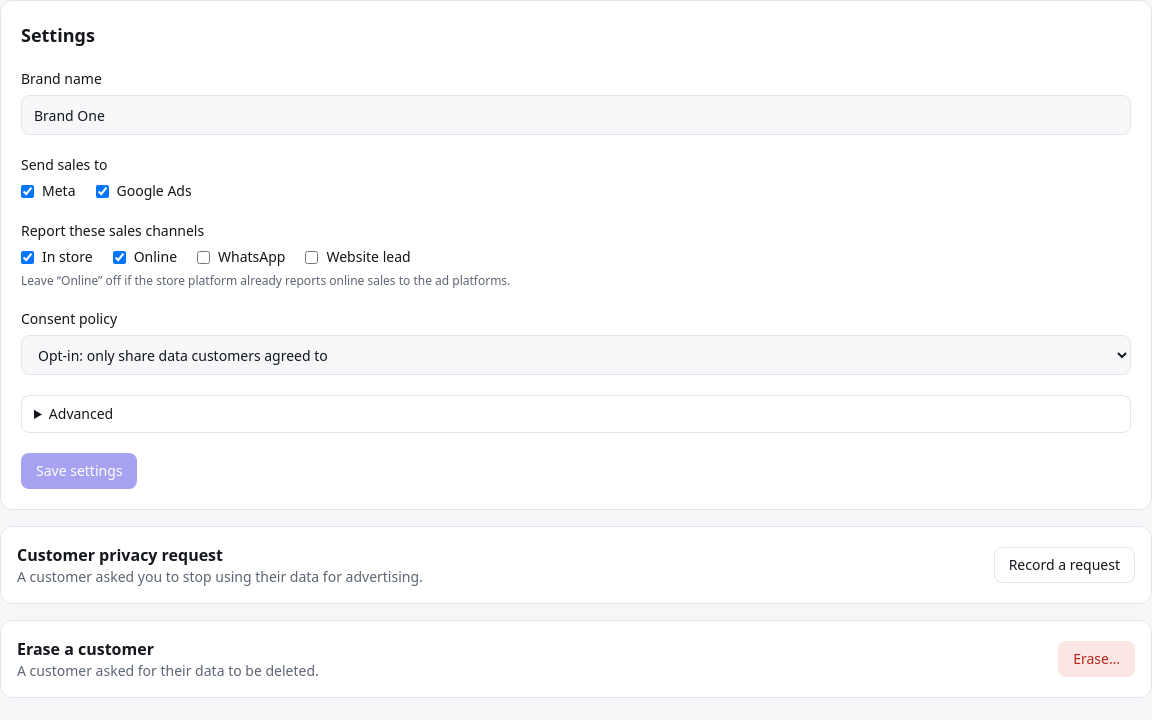
Scenario: brand settings › changing back to what was saved turns Save off again
This screenshot has width=1152, height=720.
What coordinates should you click on to do the following:
click the checkbox labelled "In store"
I would click on:
 (28, 257)
Its box is [21,250,34,264].
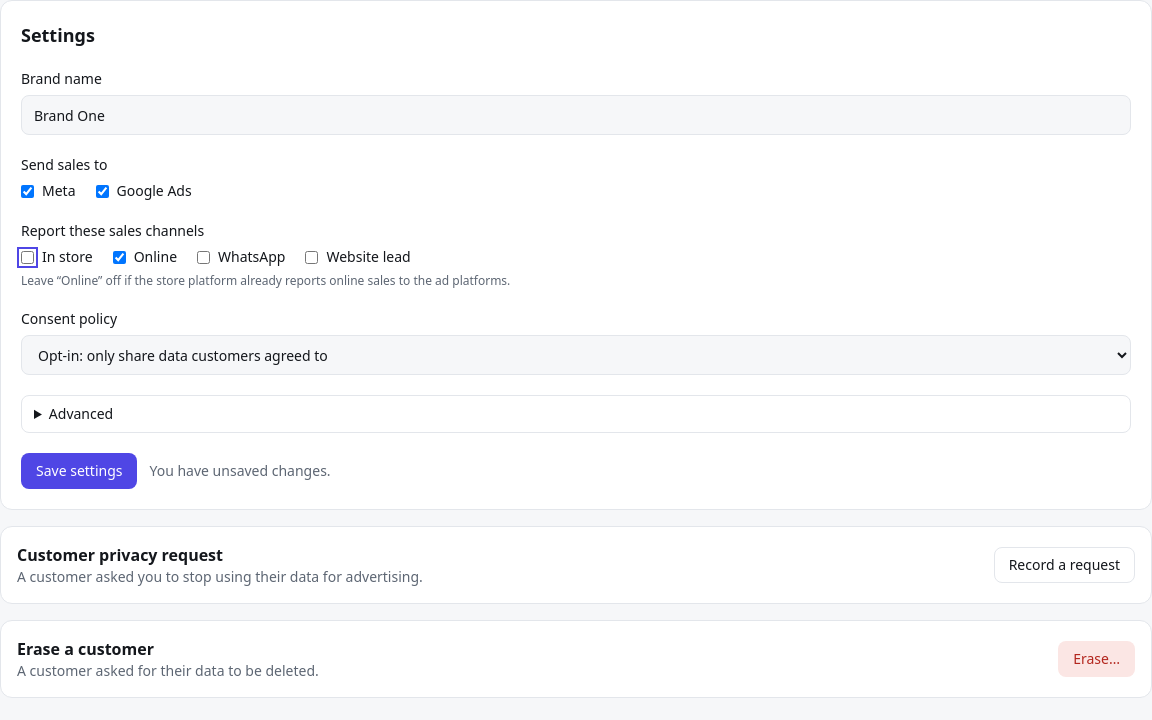
Expected: the button "Save settings" is enabled, [21,453,138,489]
What coordinates should you click on to do the following:
click the checkbox labelled "In store"
I would click on:
 (28, 257)
Its box is [21,250,34,264].
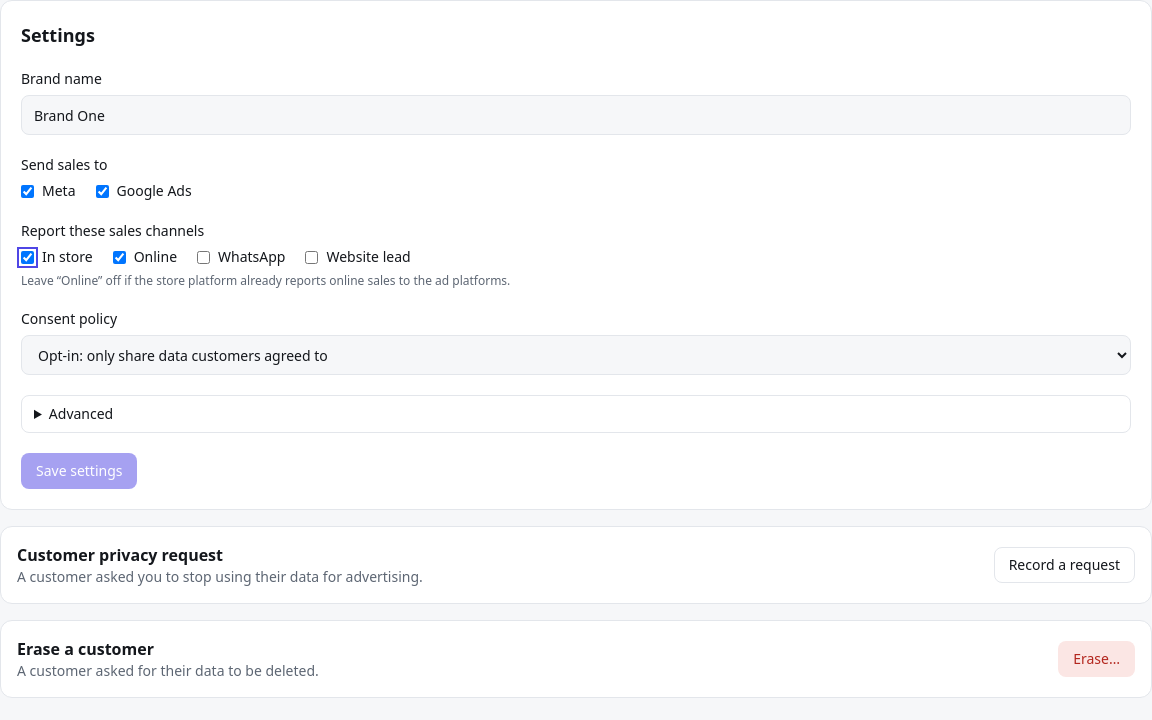
Expected: the button "Save settings" is disabled, [21,453,138,489]
